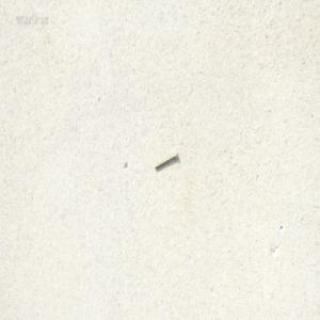Bolttrack_idkeyframe: (152, 149, 177, 171)
